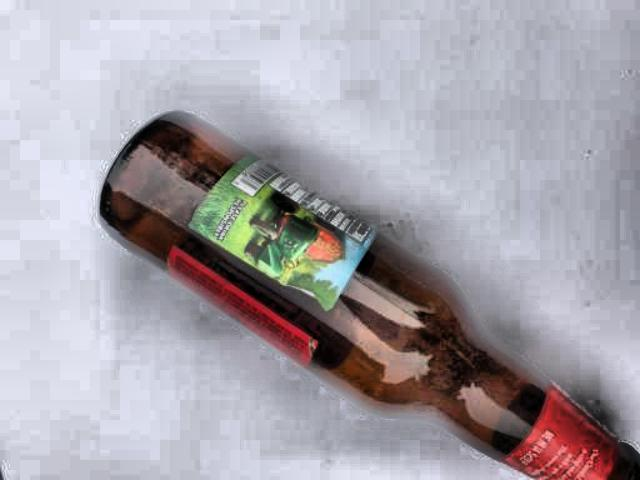Bottles: (83, 90, 640, 480)
